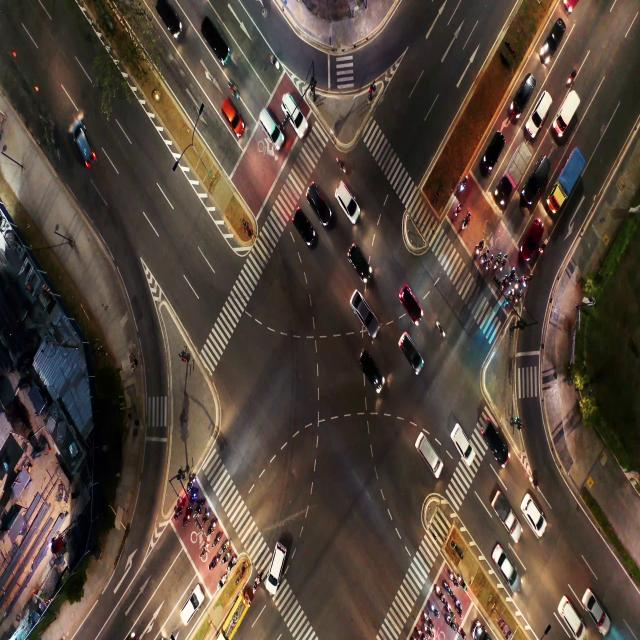bus: (231, 605, 248, 626)
car: (362, 352, 385, 398), (416, 439, 444, 472), (157, 1, 180, 40), (205, 23, 227, 60), (267, 550, 289, 587), (72, 120, 91, 162), (454, 421, 473, 462), (354, 294, 374, 332), (560, 593, 578, 631), (495, 546, 514, 580), (182, 586, 202, 617), (349, 242, 366, 278), (487, 424, 505, 458), (584, 595, 604, 624), (515, 72, 531, 107), (402, 335, 418, 368), (526, 216, 539, 254), (401, 285, 419, 312), (287, 98, 304, 126), (545, 18, 559, 51), (525, 497, 541, 525), (534, 156, 548, 187), (534, 92, 550, 119), (487, 134, 500, 164), (296, 211, 310, 238), (260, 119, 279, 138), (310, 184, 324, 208), (224, 107, 240, 126), (341, 187, 353, 209)
motorcycle: (270, 54, 280, 70), (336, 156, 346, 172), (436, 322, 445, 338), (530, 478, 540, 492), (459, 176, 467, 193), (229, 82, 238, 96), (424, 625, 434, 637), (566, 71, 576, 83), (444, 582, 452, 596), (415, 624, 423, 638), (475, 242, 483, 255), (454, 203, 461, 217), (514, 292, 521, 306), (431, 601, 438, 615), (449, 573, 457, 585), (463, 215, 470, 228), (436, 587, 443, 600), (448, 618, 455, 631), (542, 241, 548, 255), (188, 478, 194, 491), (220, 541, 227, 552), (218, 576, 225, 587), (459, 577, 466, 588), (185, 513, 191, 525), (500, 277, 506, 289), (176, 503, 181, 517), (424, 612, 431, 622), (203, 509, 209, 520), (212, 556, 218, 567), (522, 275, 528, 286), (482, 250, 487, 263), (448, 602, 453, 615), (253, 576, 257, 592), (458, 601, 462, 617), (190, 492, 196, 502), (215, 532, 221, 542), (228, 558, 234, 568), (510, 268, 514, 282), (501, 257, 506, 268), (460, 625, 464, 638), (198, 503, 203, 513), (222, 554, 228, 562), (508, 291, 512, 303), (202, 544, 207, 553), (210, 520, 214, 531), (516, 278, 520, 289), (488, 258, 492, 268), (496, 256, 500, 266)
truck: (558, 162, 574, 197), (563, 98, 574, 134), (497, 496, 509, 526), (508, 157, 520, 180)
